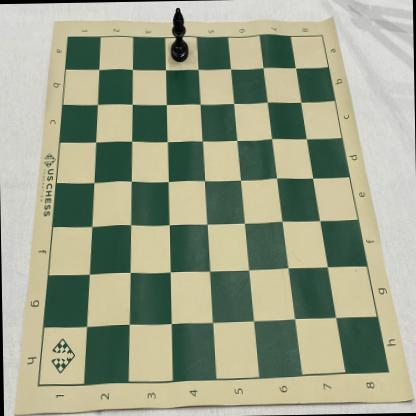bishop: (170, 7, 188, 62)
